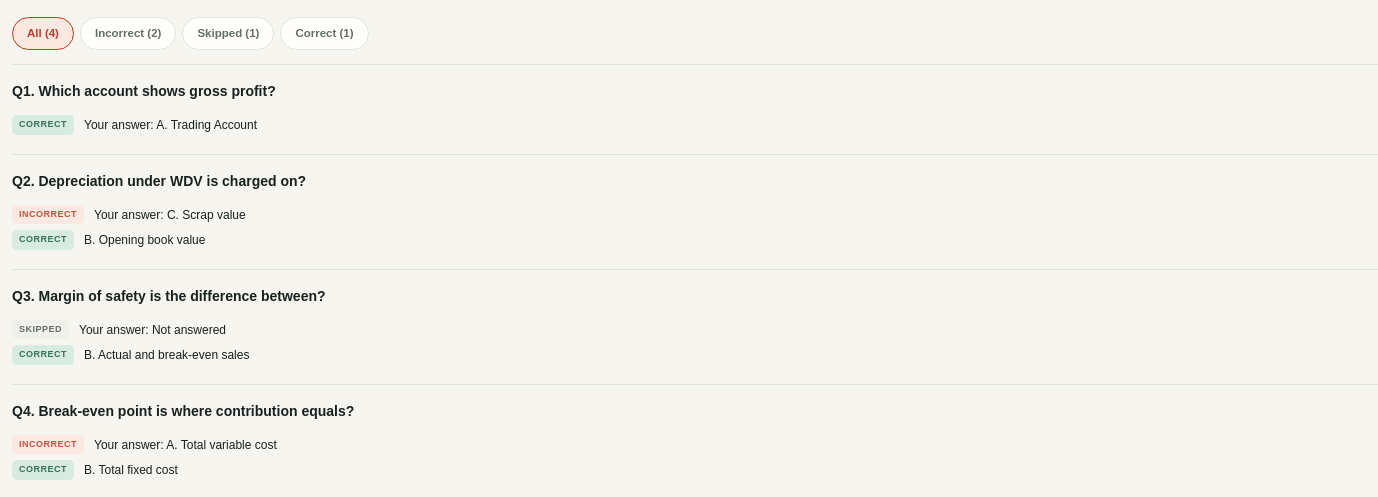
it: ResultQuestionList › narrows to only skipped questions
Click the button "Skipped (1)". click: {"x": 228, "y": 34}
box: [182,17,274,50]
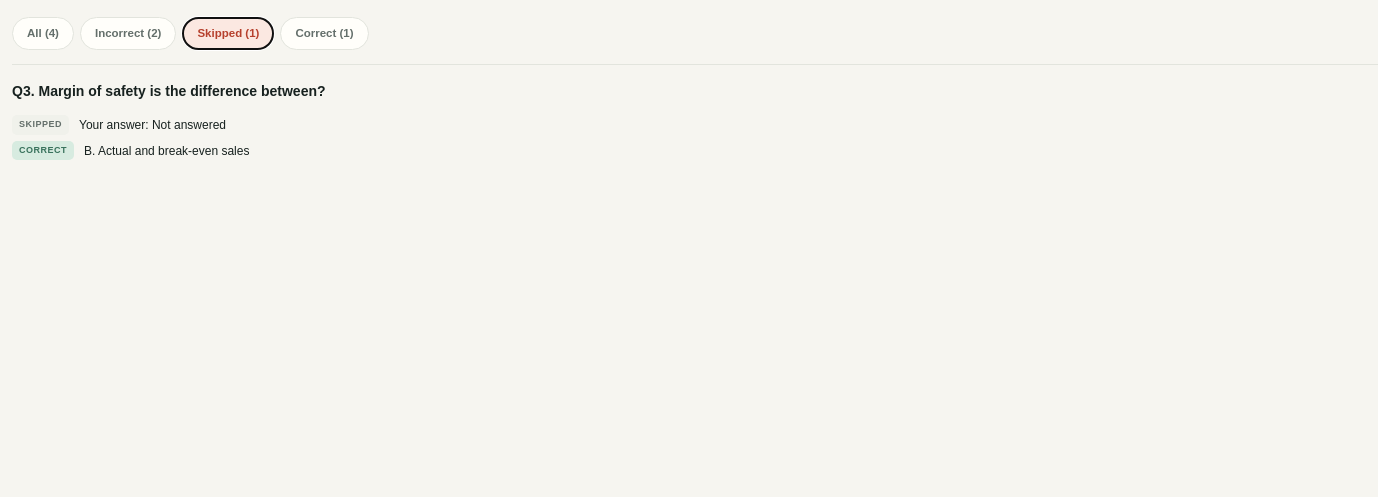
Expected: the heading "Q3. Margin of safety is the difference between?" is shown, [12,83,326,99]
Expected: the heading "Depreciation under WDV" is gone
